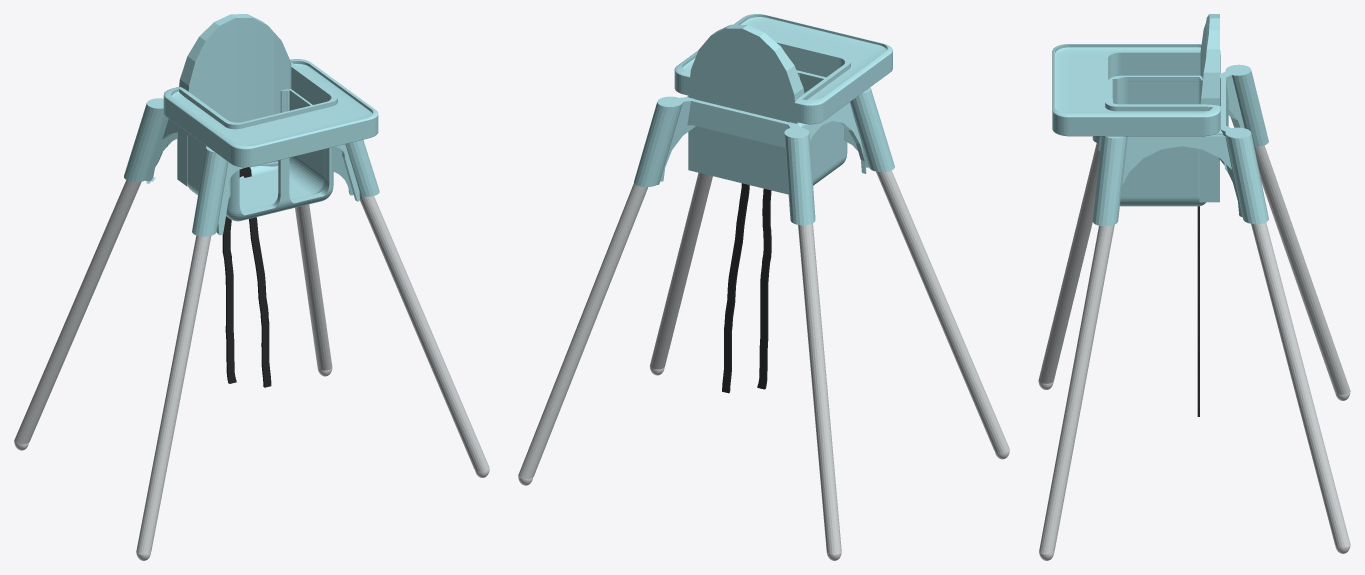
File: BabyChair_AntilopBlue.obj
3 renders of one model, left to right at view 1: azimuth 30°, elevation 25°; view 2: azimuth 150°, elevation 25°; view 3: azimuth 270°, elevation 25°, orthographic. The views are drawn at different scales.
Parts seen in each view (by area): view 1: group_0_11593967, group_0_14541540, group_0_2829873; view 2: group_0_11593967, group_0_14541540, group_0_2829873; view 3: group_0_11593967, group_0_14541540, group_0_2829873.
Part boxes in pixels (x1=…): group_0_11593967: x1=124, y1=14, x2=379, y2=236; group_0_14541540: x1=14, y1=180, x2=489, y2=554; group_0_2829873: x1=222, y1=167, x2=271, y2=387; group_0_11593967: x1=634, y1=14, x2=894, y2=225; group_0_14541540: x1=518, y1=170, x2=1009, y2=554; group_0_2829873: x1=722, y1=183, x2=771, y2=393; group_0_11593967: x1=1052, y1=14, x2=1268, y2=226; group_0_14541540: x1=1038, y1=143, x2=1350, y2=554; group_0_2829873: x1=1197, y1=206, x2=1199, y2=416.
Bounding box in the file's own units: 82.34 × 99 × 61.22.
